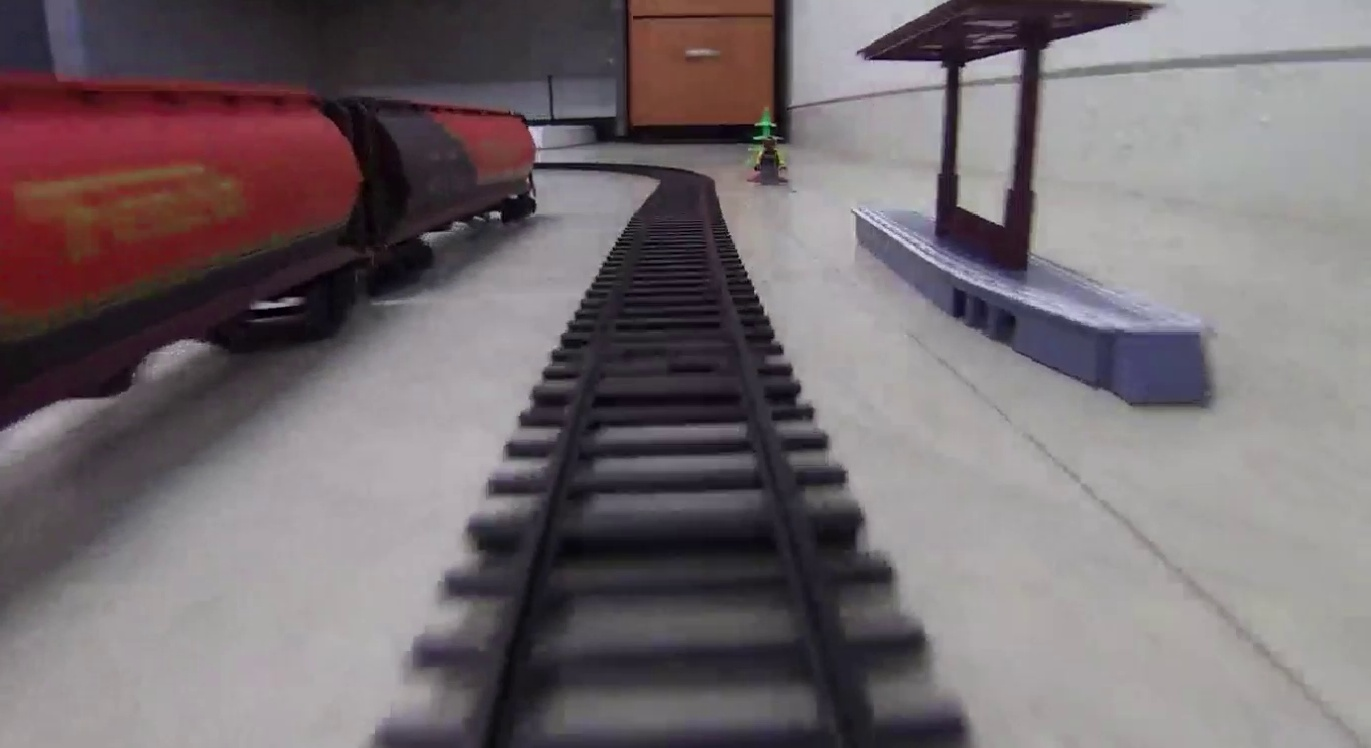people: (758, 138, 784, 188)
